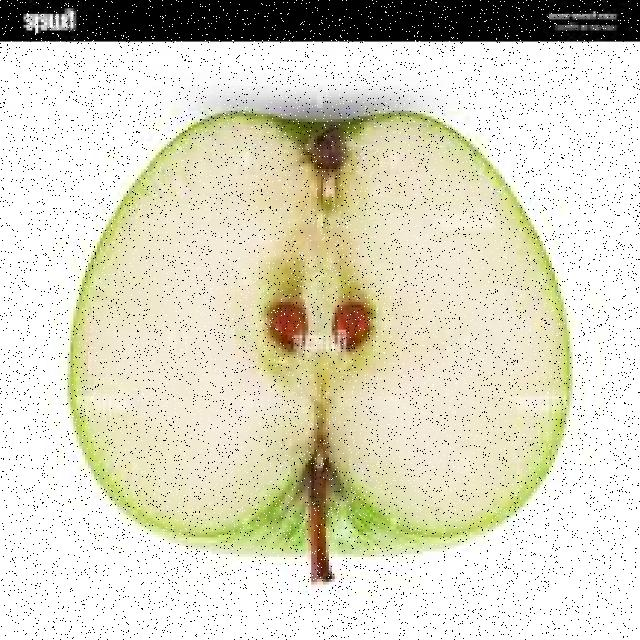Apple: (67, 115, 570, 552)
